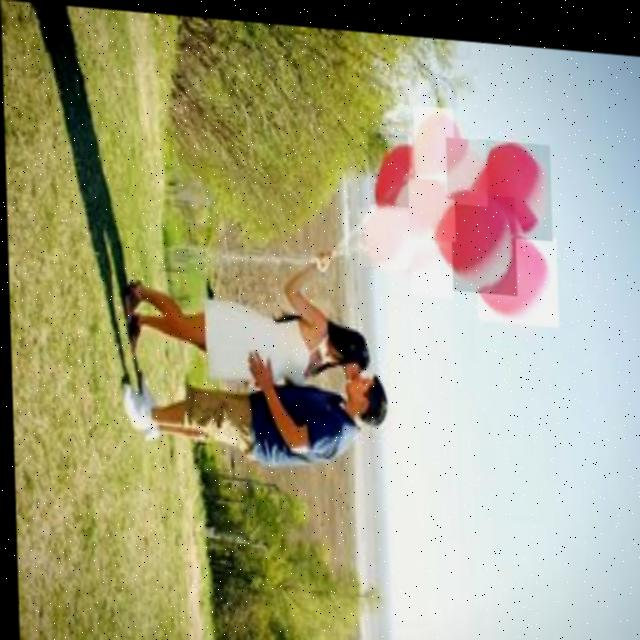balloon: (428, 182, 515, 287), (473, 222, 556, 317), (476, 130, 550, 231), (355, 201, 412, 263), (412, 98, 453, 175), (366, 125, 408, 200), (406, 170, 454, 233), (444, 129, 486, 198), (408, 230, 451, 291)
